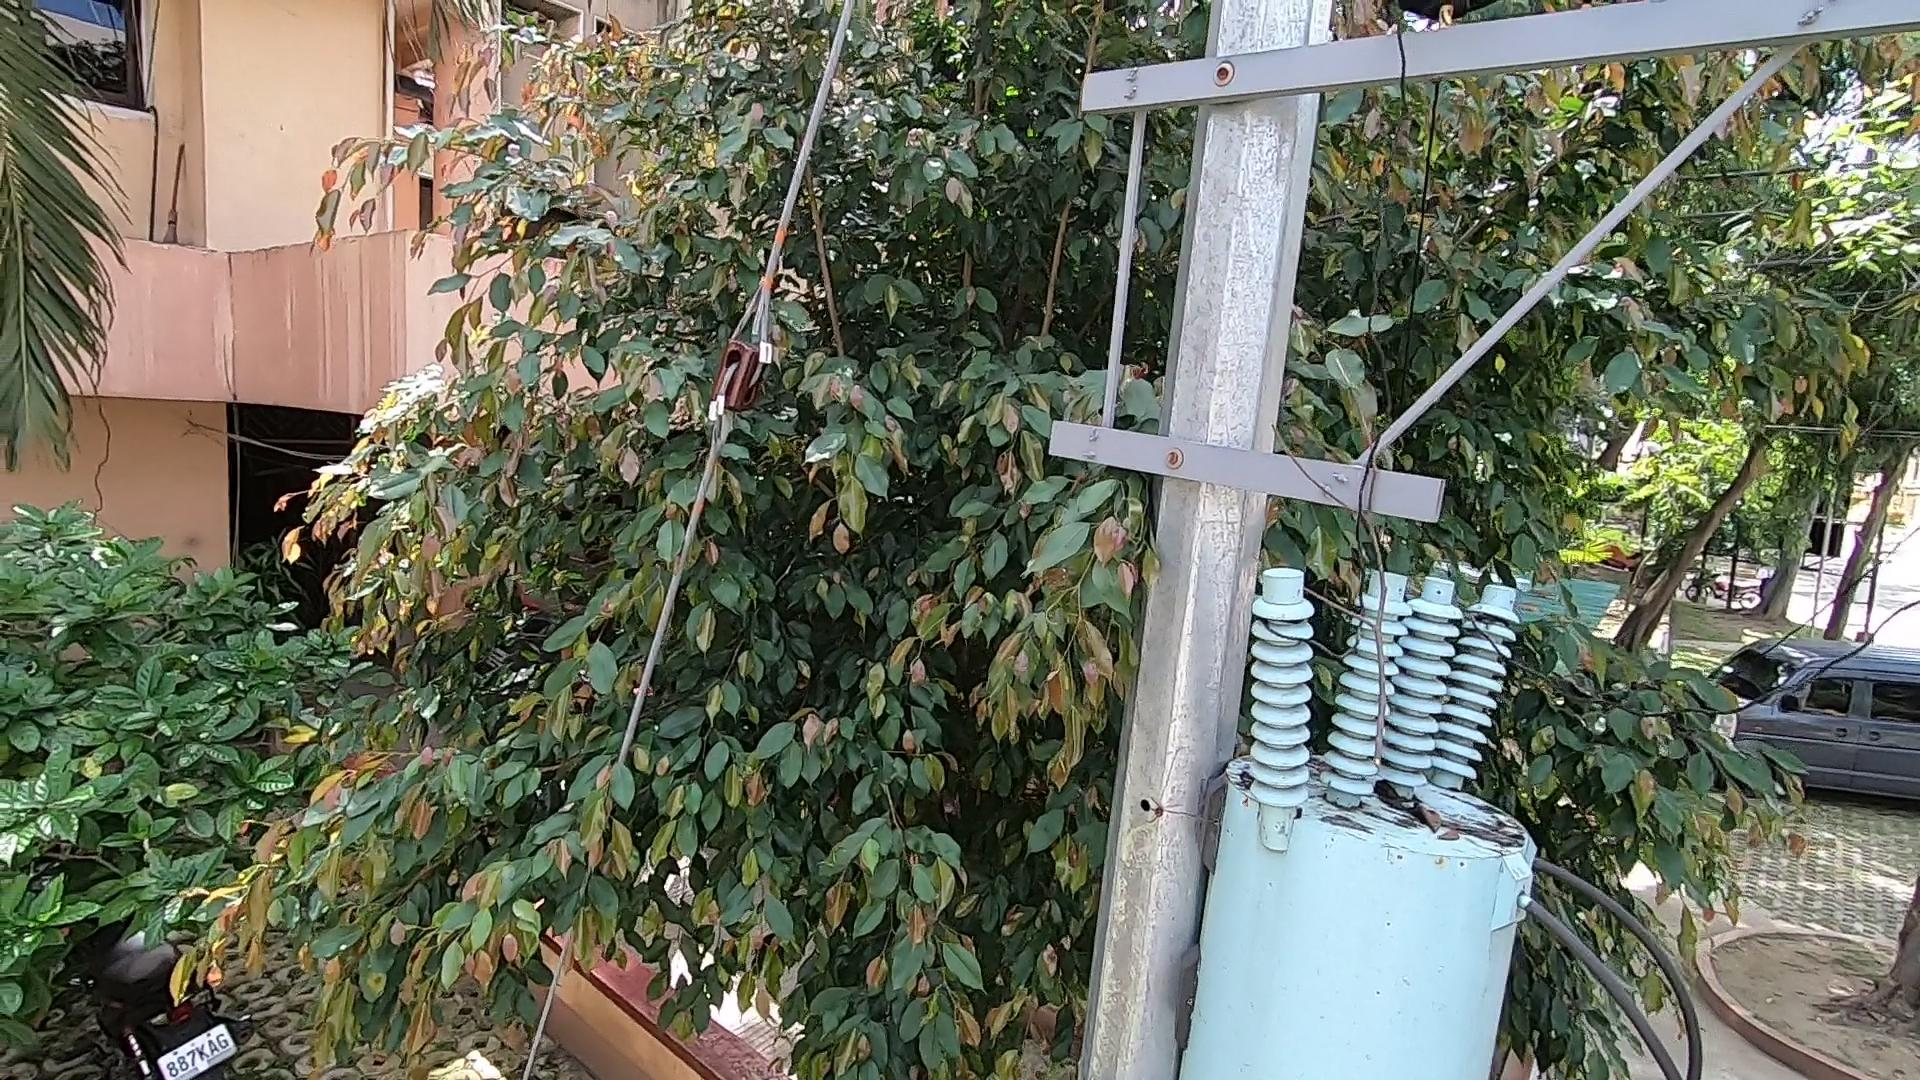leaf: (1364, 782, 1449, 835)
tree branch: (1265, 407, 1444, 769)
